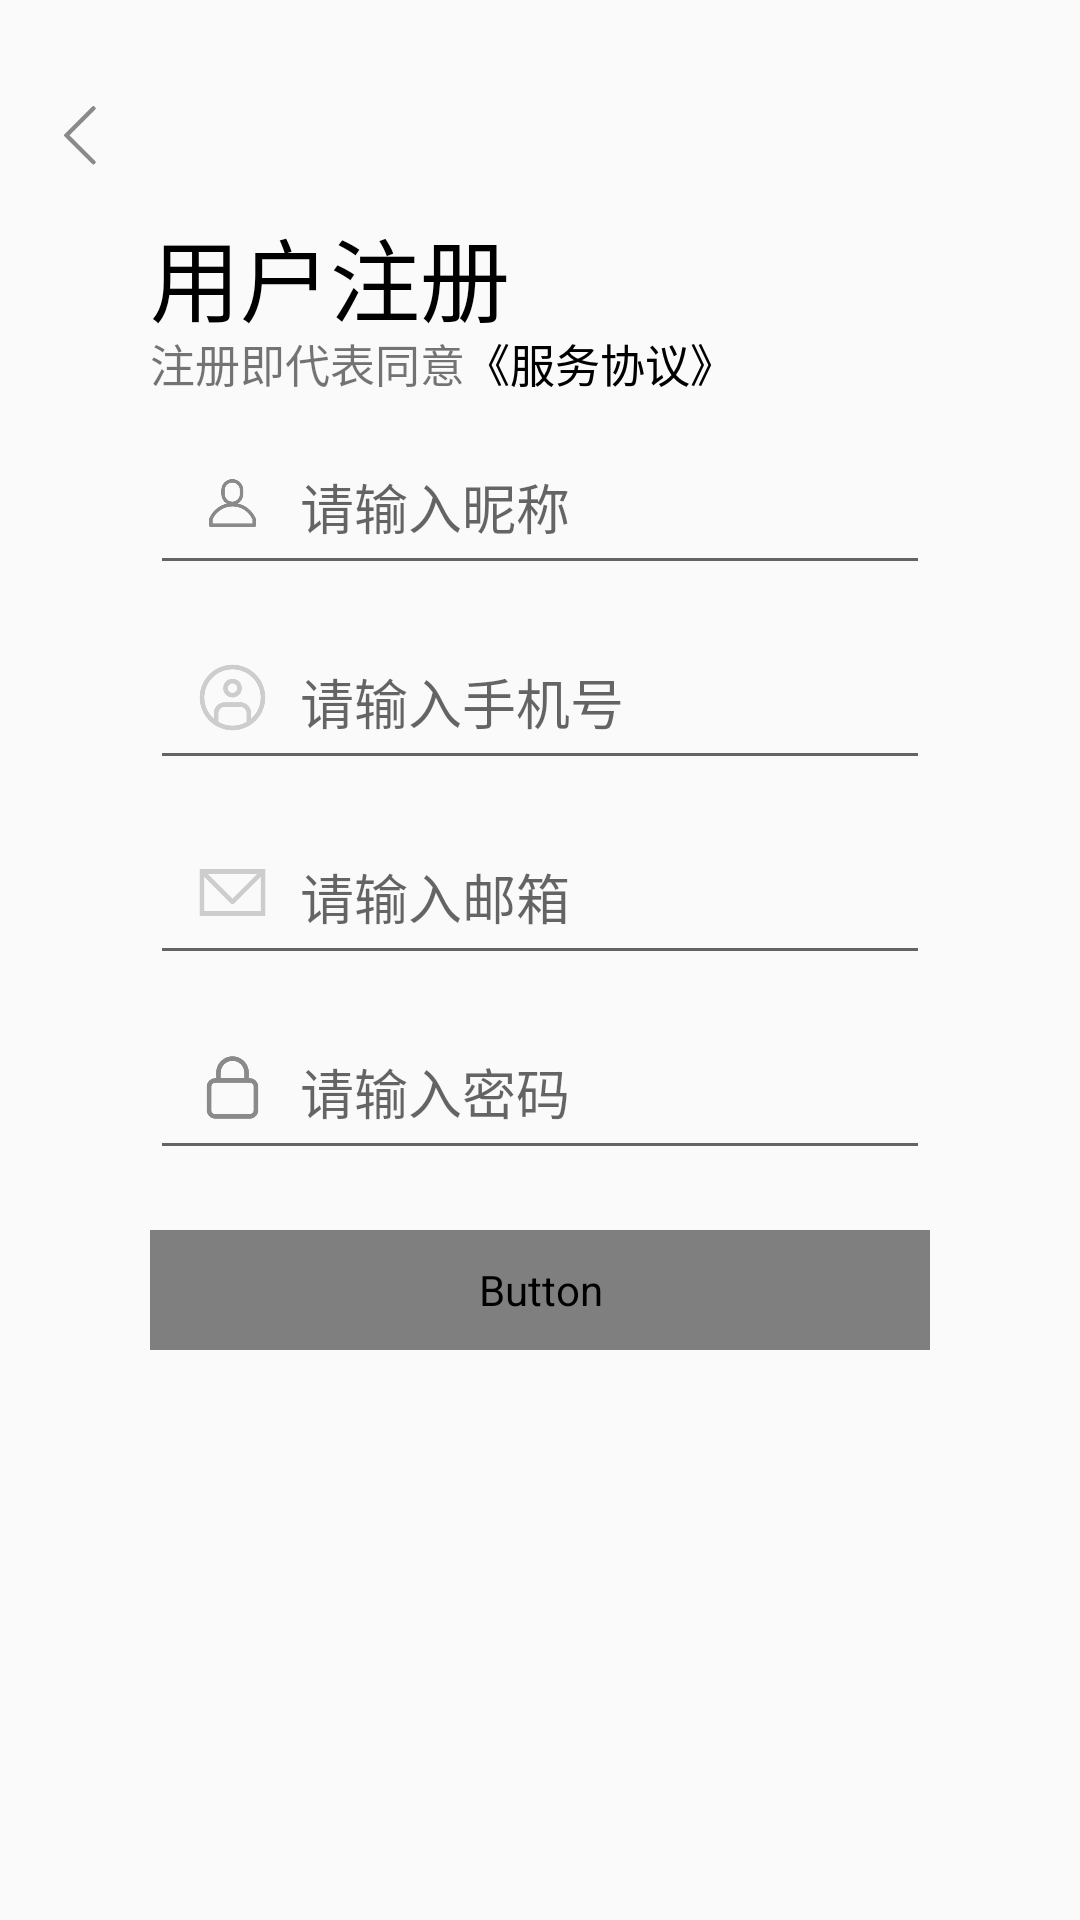

Named icons in this screenshot (1080px×1920px) and their bounding boxes, (x1, y1, x2, y2):
back: (64, 106, 96, 165)
email: (200, 869, 265, 916)
nickname: (209, 479, 256, 527)
uer account: (200, 665, 265, 730)
user password: (207, 1056, 258, 1119)
